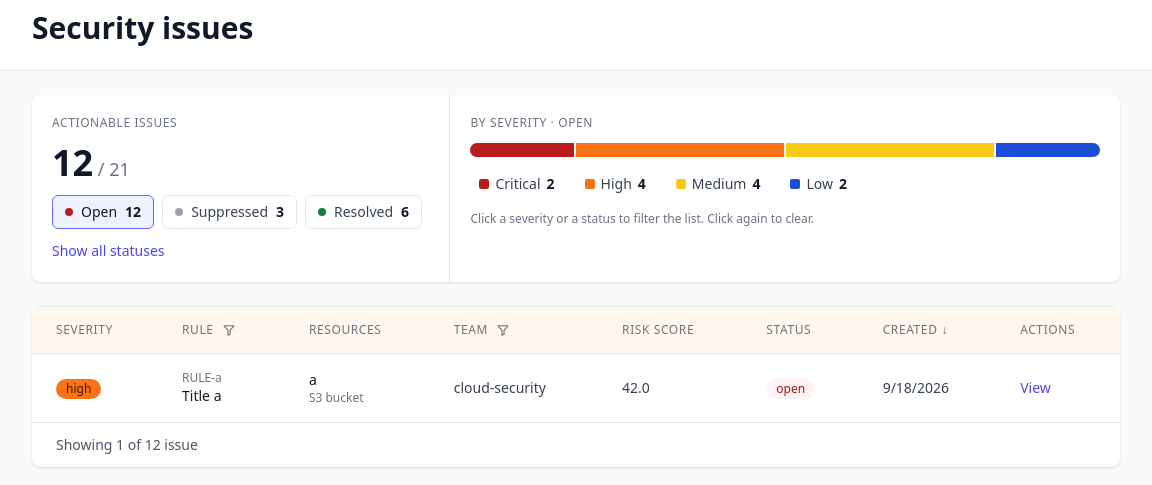
Scenario: IssuesPage › shows totals by status and recounts severities for the selected status
expect the element showing "12 / 21" is shown: met, box [52,138,130,187]
expect the button "Open 12" is shown: met, box [52,195,154,229]
Click the button "Resolved 6". click: {"x": 364, "y": 212}
box: [305,195,422,229]
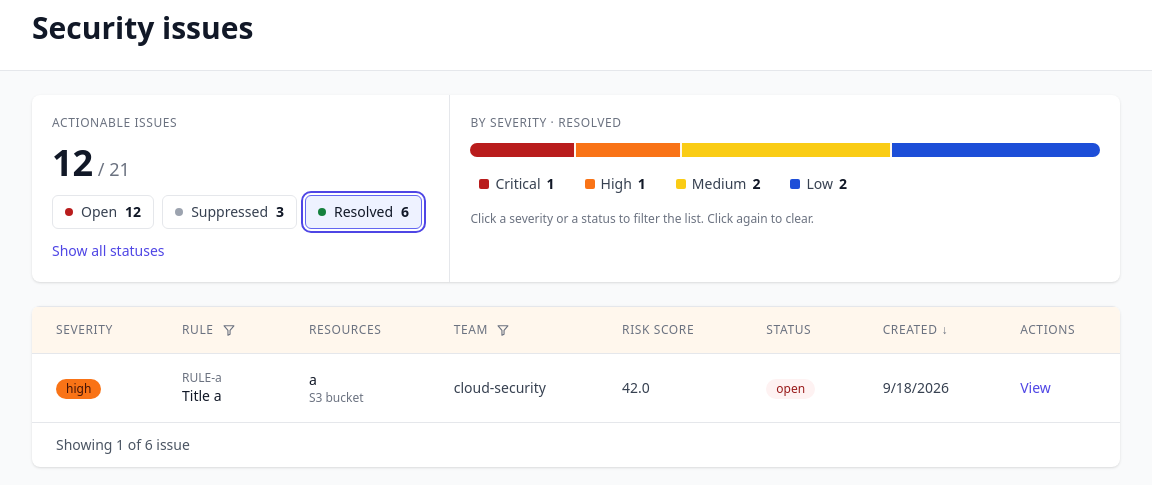
expect the button "High 1" is shown: met, box [576,169,655,199]
